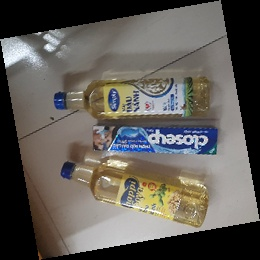CloseUp Tuyet: (90, 123, 219, 159)
Happy Soya: (59, 159, 209, 230)
Simply: (52, 74, 212, 121)
